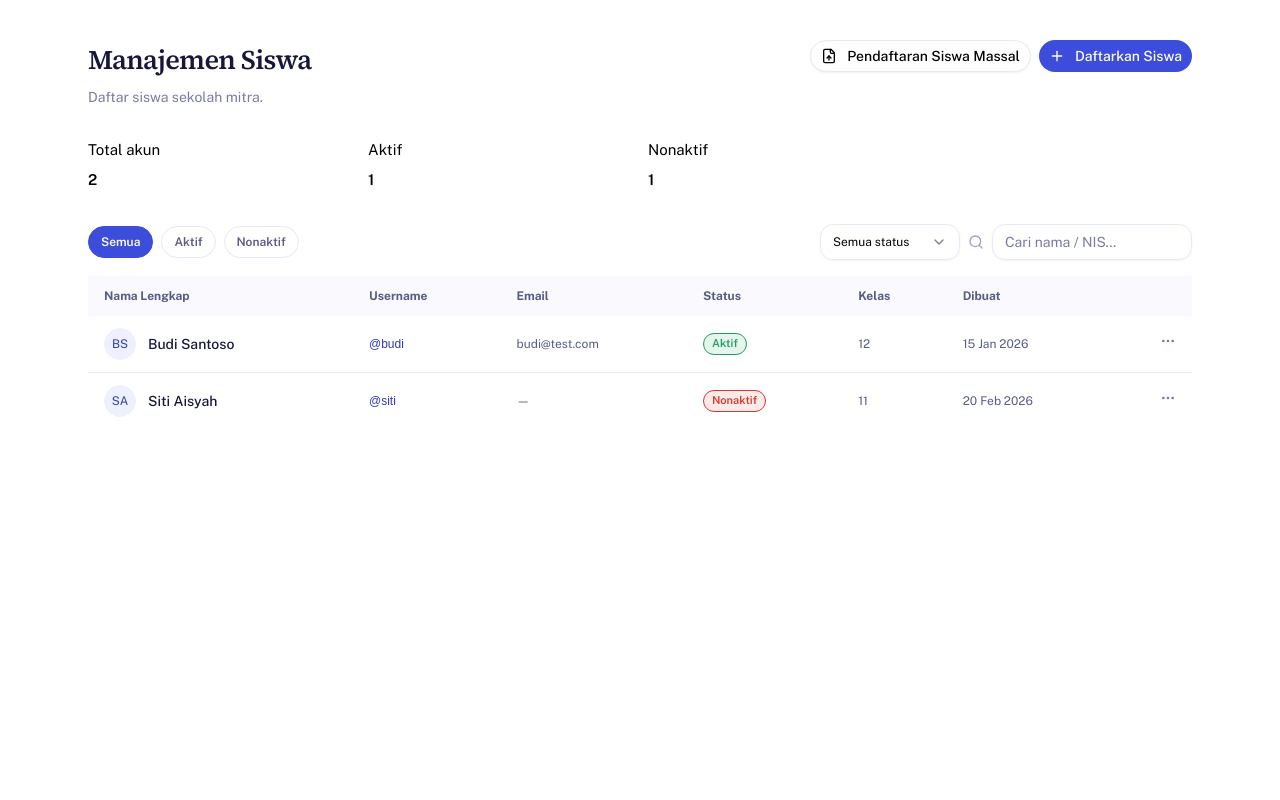
Test: SchoolStudentsPage › opens reissue-credentials flow from the row menu and shows new credentials
This screenshot has width=1280, height=800.
Expected: the text "Budi Santoso" is shown, [148,334,234,354]
Expected: the row "BS Budi Santoso @budi budi@test.com Aktif 12 15 Jan 2026" is shown, [88,316,1192,372]
Step 1. Press the mouse on the button without text in the row of "BS" → (1168, 341), box [1160,333,1176,349]
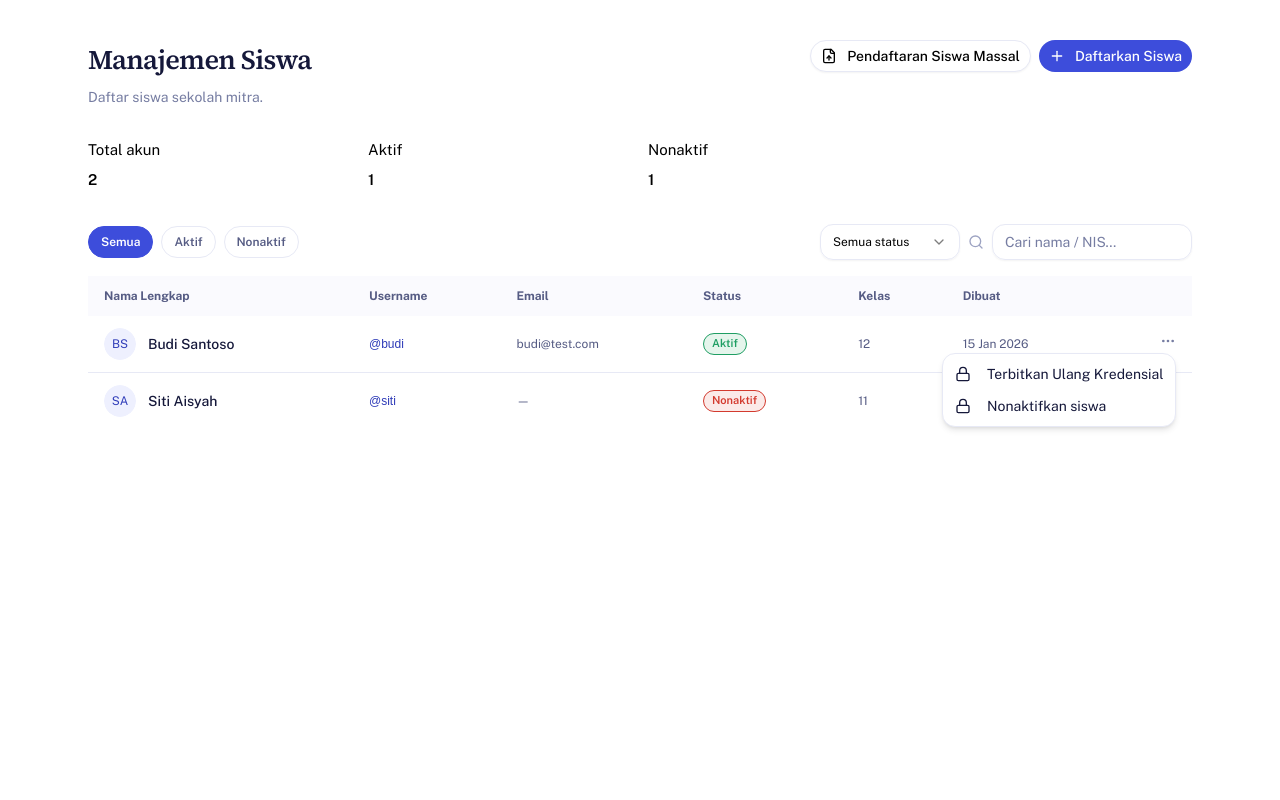
Step 2. Click the menu item "Terbitkan Ulang Kredensial" → (1059, 374), box [955,366,1164,382]
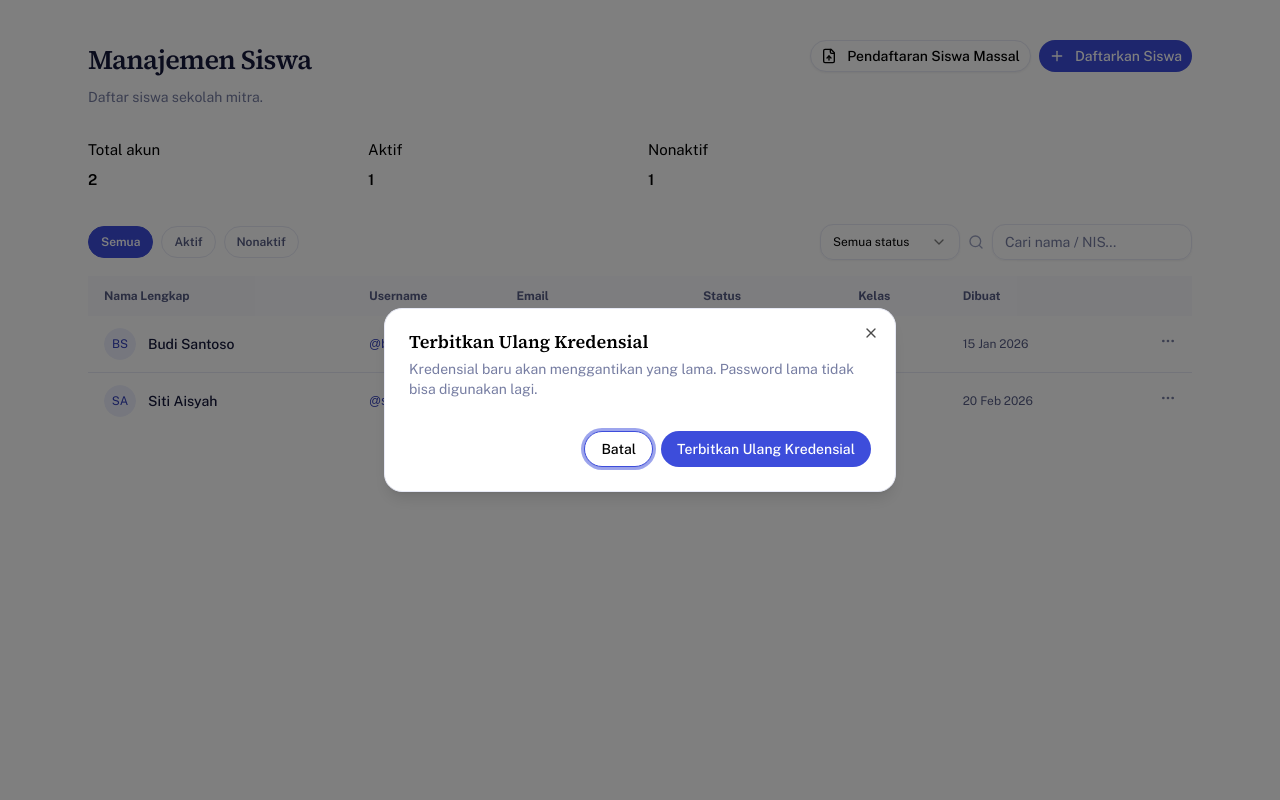
Step 3. Click the button "Terbitkan Ulang Kredensial" → (766, 449), box [661,431,871,467]
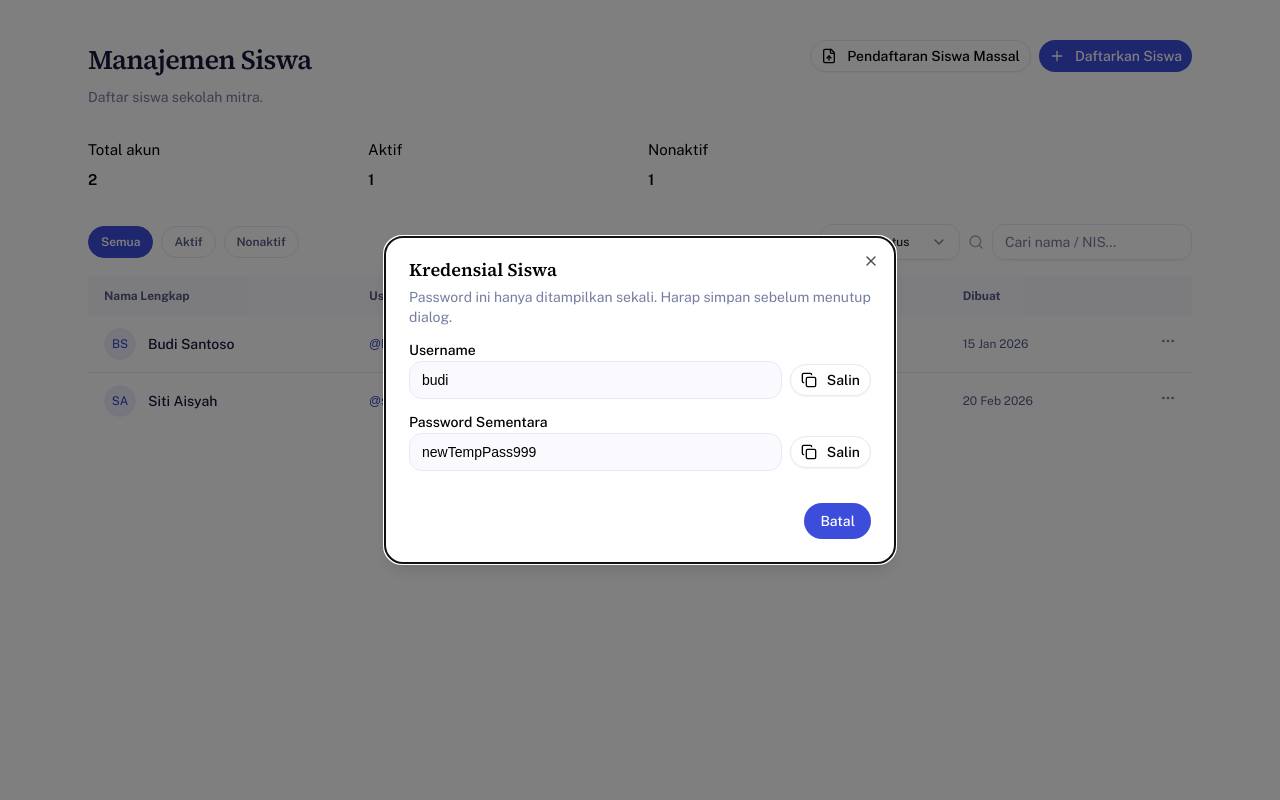
Expected: the text "newTempPass999" is shown, [409,433,782,471]
